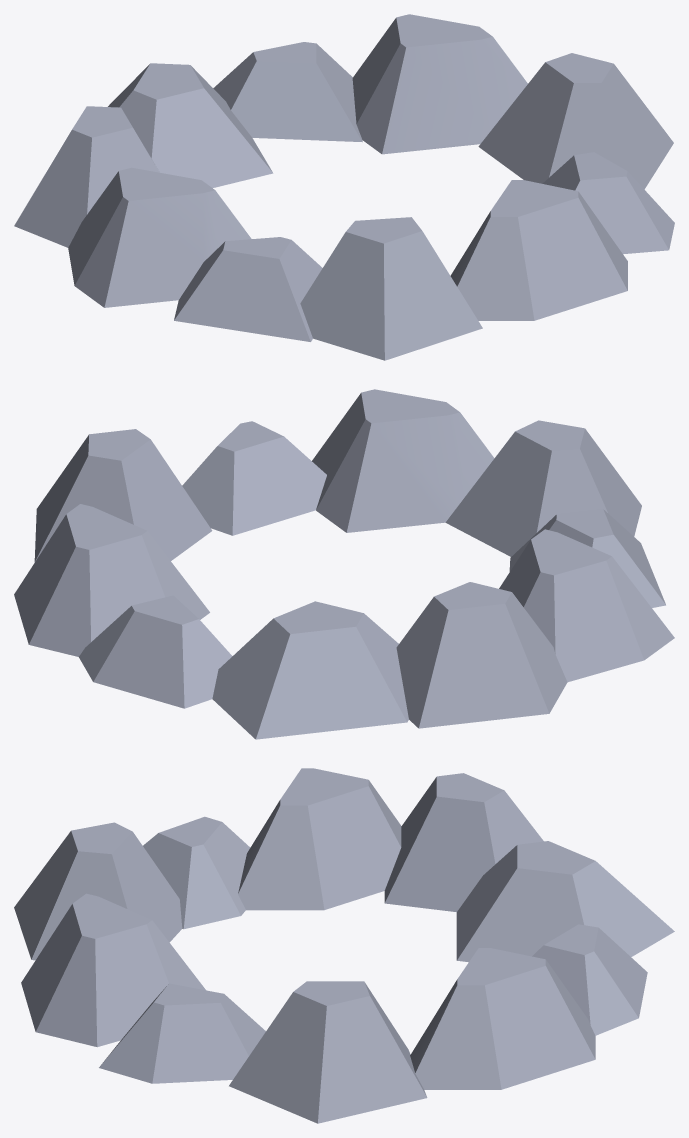
Rendered from bourock.glb.
3 renders of one model, top to bottom at view 1: azimuth 30°, elevation 25°; view 2: azimuth 150°, elevation 25°; view 3: azimuth 270°, elevation 25°, orthographic. The views are drawn at different scales.
Parts seen in each view (by area): view 1: bourock; view 2: bourock; view 3: bourock.
Boxes of the visible parts, x1,y1,x2,y2 form: bourock: (14, 14, 674, 360); bourock: (14, 389, 674, 739); bourock: (14, 768, 674, 1123).
Bounding box in the file's own units: 0.3687 × 0.053 × 0.3514.
